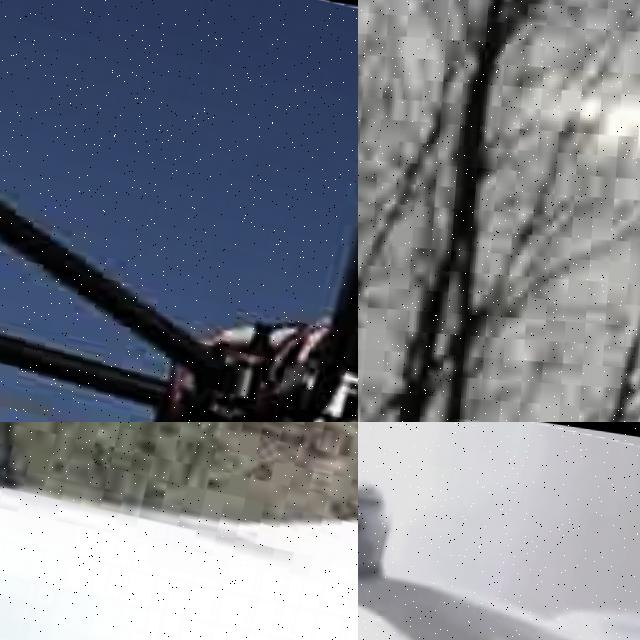0: (0, 0, 358, 422), (0, 422, 358, 640)
drone: (358, 422, 640, 640)
